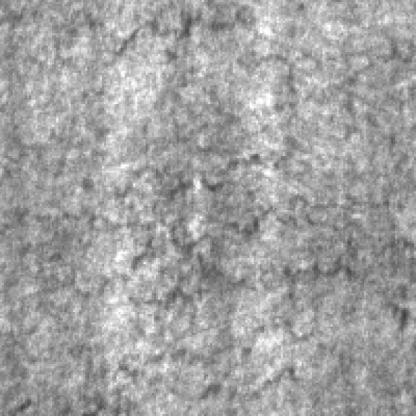crazing: (17, 148, 414, 308), (62, 229, 337, 397), (98, 0, 412, 125)
